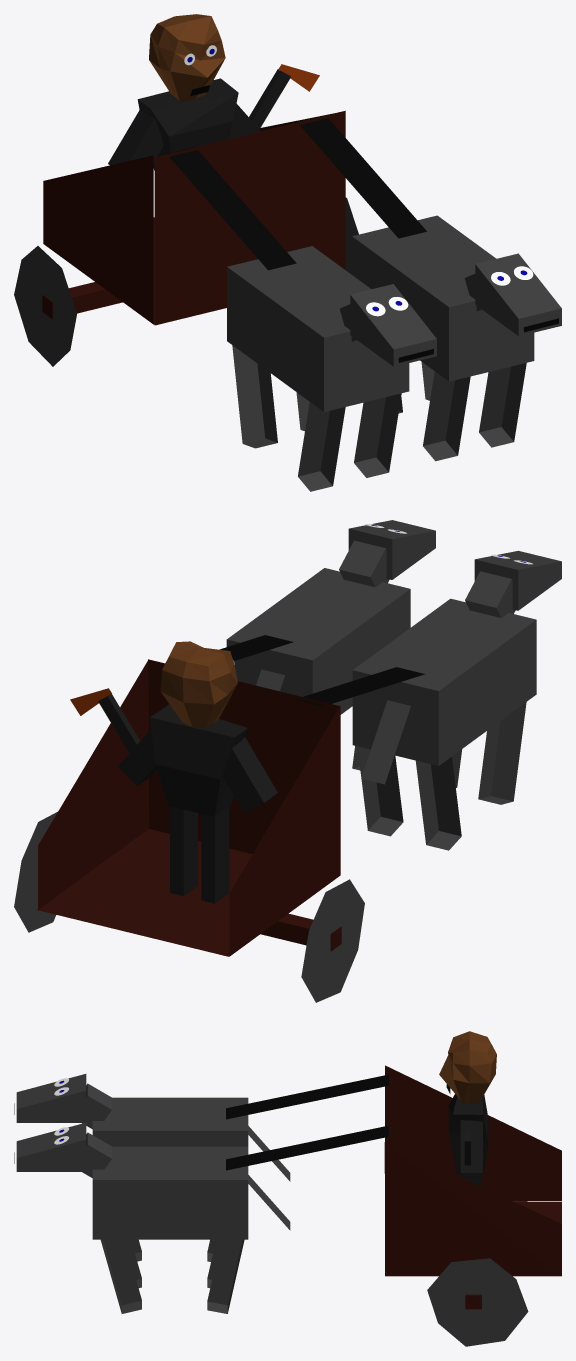
File: lightchariot1.obj
3 views of the same model, one above another, from view 1: azimuth 30°, elevation 25°; view 2: azimuth 150°, elevation 25°; view 3: azimuth 270°, elevation 25° (orthographic). The views are drawn at different scales.
Visible parts, largest first — view 1: Plane.005_Plane.007, Cube.015_Cube.017, Cube.006_Cube.009, Plane.003, Plane.007_Plane.008, Cube, Cube.001, Cube.021_Cube.023, Cube.014_Cube.016, Plane.012_Plane.013, Plane.013_Plane.014, Cube.016_Cube.018 (+8 smaller); view 2: Cube.015_Cube.017, Cube.006_Cube.009, Plane.003, Plane.002, Plane.004, Plane.005_Plane.007, Cube.001, Cube, Plane.007_Plane.008, Cube.019_Cube.021, Cube.016_Cube.018, Cube.021_Cube.023 (+14 smaller); view 3: Plane.004, Cube.006_Cube.009, Plane.003, Cube.015_Cube.017, Plane.006_Plane.007, Cube, Cube.014_Cube.016, Cube.021_Cube.023, Plane.012_Plane.013, Plane.013_Plane.014, Cube.011_Cube.013, Cube.010_Cube.012 (+6 smaller).
Boxes of the visible parts, x1,y1,x2,y2 form: Plane.005_Plane.007: (154,110,345,325); Cube.015_Cube.017: (227,246,409,411); Cube.006_Cube.009: (352,215,534,381); Plane.003: (43,155,153,324); Plane.007_Plane.008: (14,246,76,366); Cube: (149,14,225,101); Cube.001: (137,78,238,170); Cube.021_Cube.023: (350,284,436,366); Cube.014_Cube.016: (475,253,561,336); Plane.012_Plane.013: (167,147,296,270); Plane.013_Plane.014: (297,115,426,238); Cube.016_Cube.018: (232,345,277,448); Cube.015_Cube.017: (352,598,536,765); Cube.006_Cube.009: (226,568,410,714); Plane.003: (229,705,340,956); Plane.002: (37,829,252,956); Plane.004: (38,660,149,909); Plane.005_Plane.007: (148,659,339,853); Cube.001: (150,704,247,816); Cube: (160,641,237,728); Plane.007_Plane.008: (301,879,364,1002); Cube.019_Cube.021: (478,702,526,804); Cube.016_Cube.018: (415,757,461,850); Cube.021_Cube.023: (474,550,561,610); Plane.004: (384,1142,561,1275); Cube.006_Cube.009: (92,1146,248,1239); Plane.003: (385,1065,561,1200); Cube.015_Cube.017: (92,1097,248,1146); Plane.006_Plane.007: (427,1258,528,1346); Cube: (439,1031,496,1103); Cube.014_Cube.016: (16,1122,86,1171); Cube.021_Cube.023: (16,1074,86,1122); Plane.012_Plane.013: (226,1074,388,1119); Plane.013_Plane.014: (226,1125,388,1170); Cube.011_Cube.013: (100,1239,141,1313); Cube.010_Cube.012: (207,1239,244,1313).
Size of the model in its own units: 7.27 by 7.47 by 14.9.
